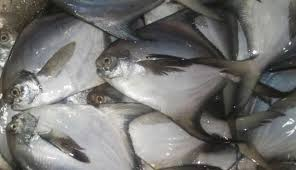Ikan Bawal: (101, 14, 252, 114), (3, 8, 101, 107), (6, 101, 143, 170)
